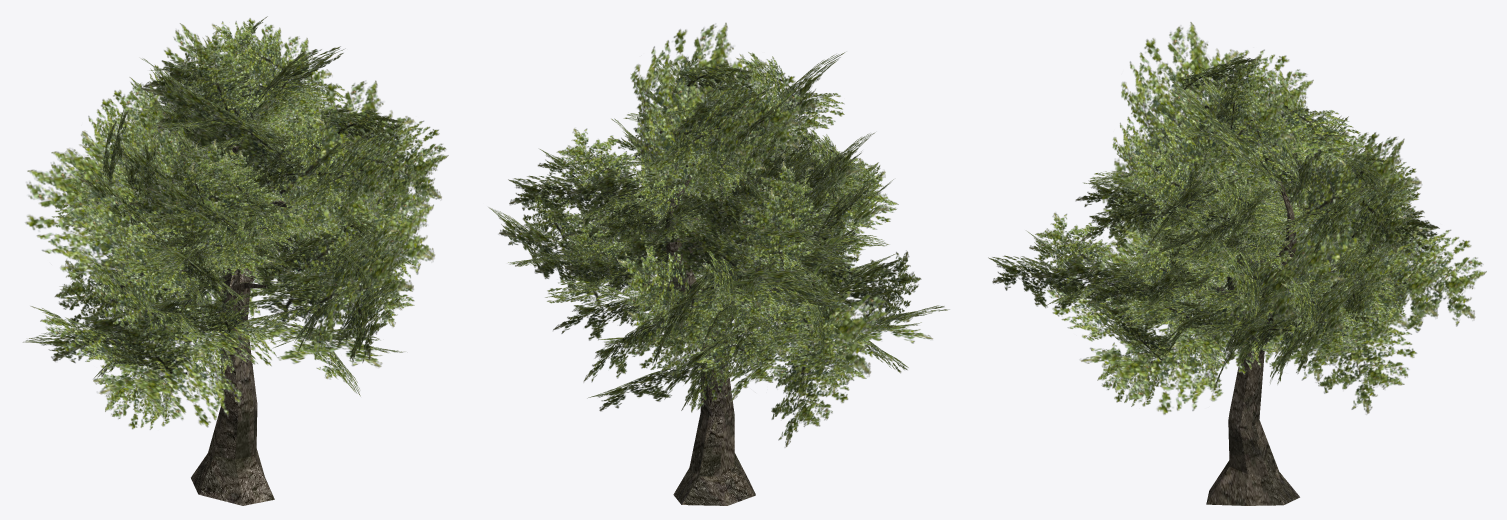
Rendered from tree04.glb.
The picture shows the model from 3 angles, left to right: view 1: azimuth 30°, elevation 25°; view 2: azimuth 150°, elevation 25°; view 3: azimuth 270°, elevation 25°; orthographic projection. The views are drawn at different scales.
Parts seen in each view (by area): view 1: Plane.002, Plane.001, Plane.003, Plane.004, Trunk; view 2: Plane.001, Plane.002, Plane.004, Plane.003, Trunk; view 3: Plane.001, Plane.002, Plane.004, Plane.003, Trunk.
Boxes of the visible parts, x1,y1,x2,y2 form: Plane.002: (25, 29, 448, 429); Plane.001: (23, 16, 441, 396); Plane.003: (80, 74, 407, 379); Plane.004: (65, 58, 367, 347); Trunk: (191, 134, 299, 505); Plane.001: (488, 23, 893, 447); Plane.002: (548, 48, 949, 412); Plane.004: (532, 80, 858, 374); Plane.003: (559, 80, 896, 385); Trunk: (625, 176, 766, 505); Plane.001: (1046, 56, 1486, 414); Plane.002: (988, 22, 1416, 414); Plane.004: (1123, 94, 1420, 375); Plane.003: (1087, 82, 1382, 347); Trunk: (1134, 179, 1299, 505).
Size of the model in its own units: 16.97 by 16.75 by 17.8.
Materials: 2 (2 with a texture image).
